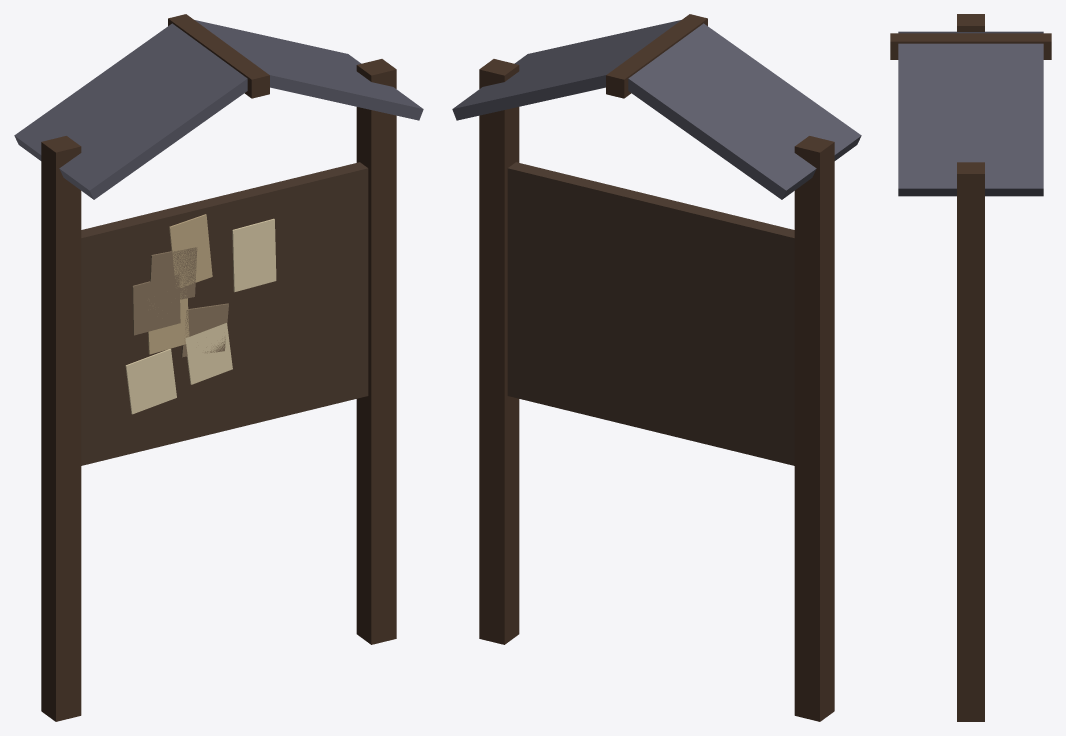
Rendered from notice_board.glb.
3 renders of one model, left to right at view 1: azimuth 30°, elevation 25°; view 2: azimuth 150°, elevation 25°; view 3: azimuth 270°, elevation 25°, orthographic. The views are drawn at different scales.
Parts seen in each view (by area): view 1: notice_board; view 2: notice_board; view 3: notice_board.
Part boxes in pixels (x1,y1,x2,y2): notice_board: (14,14,423,721); notice_board: (452,14,861,721); notice_board: (890,14,1051,721).
Bounding box in the file's own units: 0.94 × 1.65 × 0.4.
